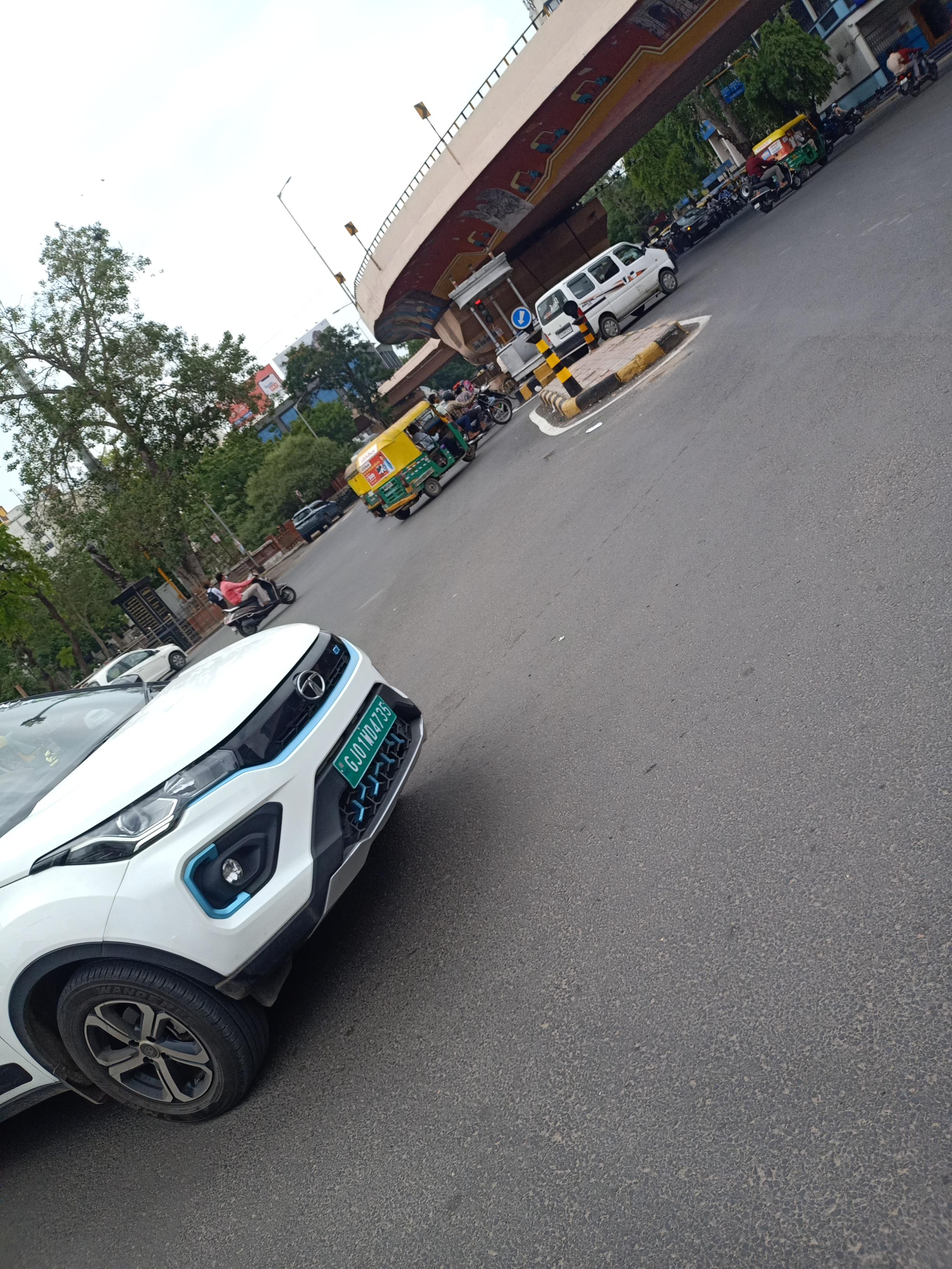green license plate: (329, 688, 401, 792)
